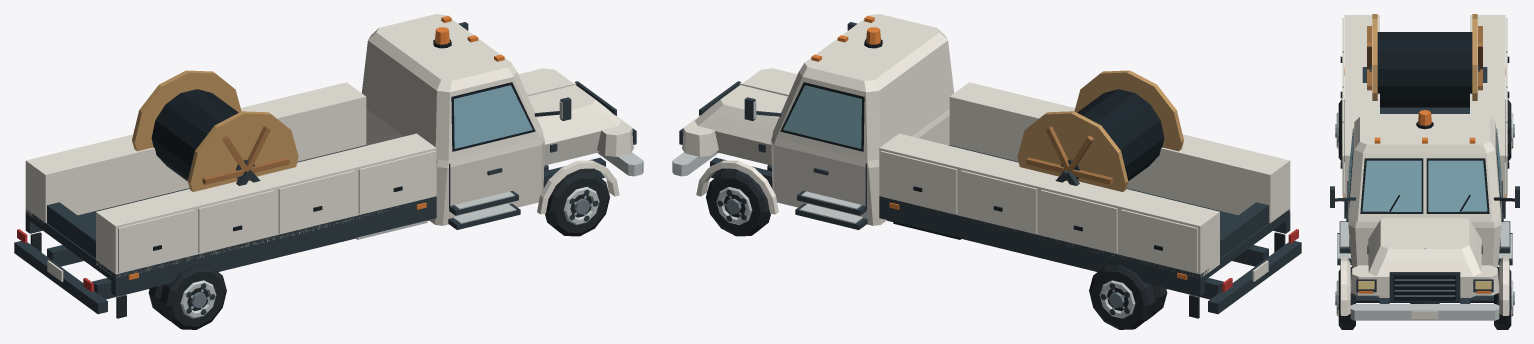
Rendered from b15_cable_spool_utility_truck.glb.
3 views of the same model, side by side, from view 1: azimuth 30°, elevation 25°; view 2: azimuth 150°, elevation 25°; view 3: azimuth 270°, elevation 25° (orthographic). The views are drawn at different scales.
Visible parts, largest first — view 1: b15_cable_spool_utility_truck; view 2: b15_cable_spool_utility_truck; view 3: b15_cable_spool_utility_truck.
Part boxes in pixels (x1,y1,x2,y2): b15_cable_spool_utility_truck: (14,14,643,329); b15_cable_spool_utility_truck: (672,14,1301,329); b15_cable_spool_utility_truck: (1330,14,1519,329).
Bounding box in the file's own units: 8.68 × 2.93 × 2.88.
